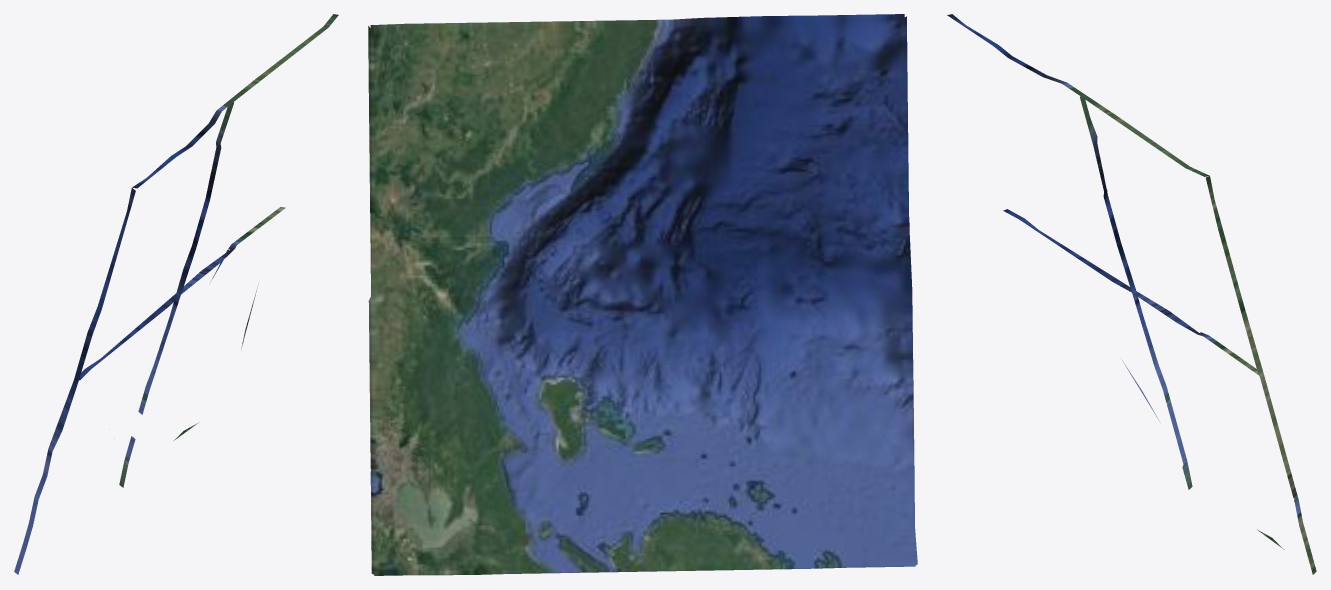
The picture shows the model from 3 angles, left to right: view 1: azimuth 30°, elevation 25°; view 2: azimuth 150°, elevation 25°; view 3: azimuth 270°, elevation 25°; orthographic projection. The views are drawn at different scales.
Bounding box in the file's own units: 303180 × 304190 × 239283.
1 material, 1 textured.
